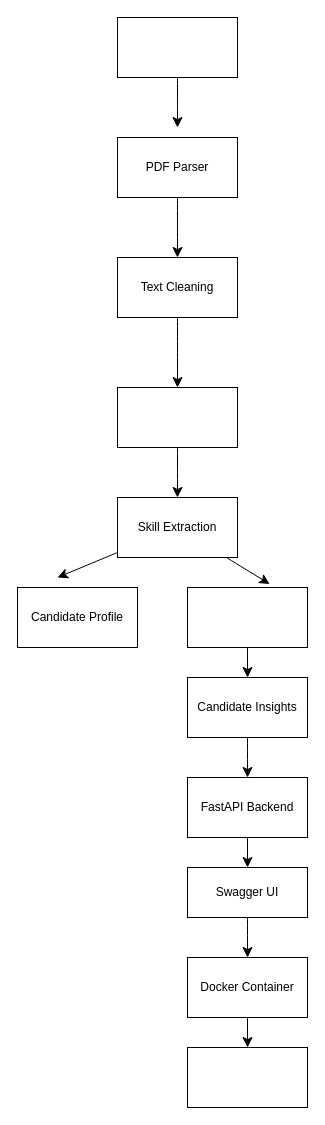
Some shapes in this 325 by 1125 pixel diagram are drawn without their labels. The centre of each missing label's shape, as x and y in pixels:
Render Cloud Deployment: the point at 247,1077
Resume PDF: the point at 177,47
Section Extraction: the point at 177,417
Skill Matching Engine: the point at 247,617
